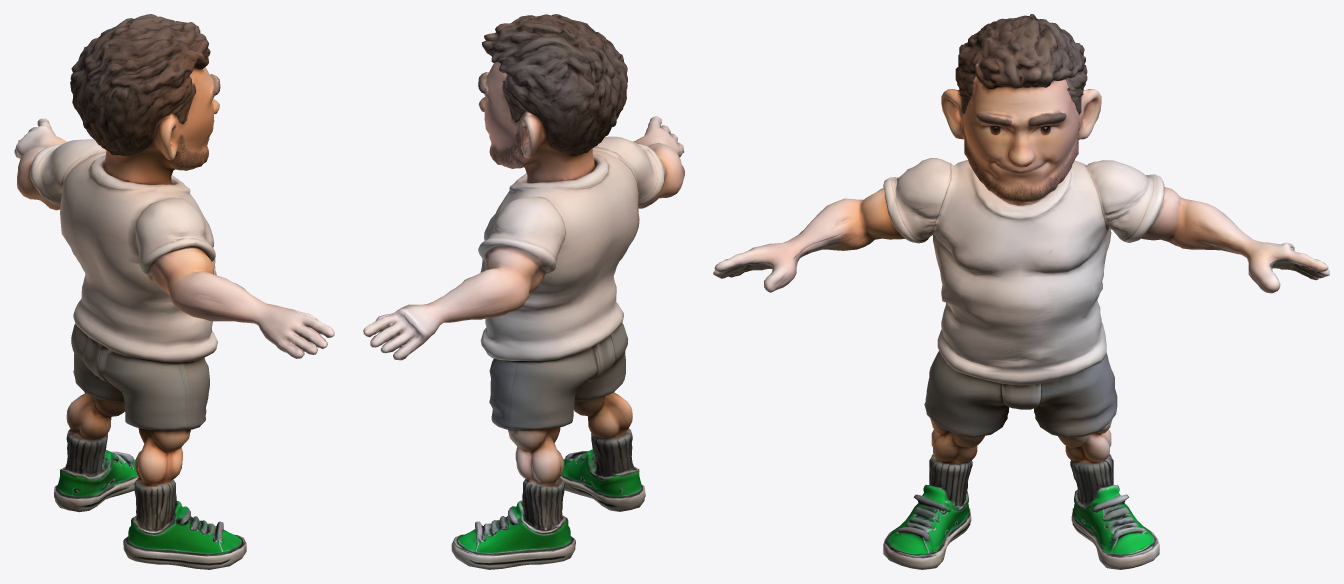
The picture shows the model from 3 angles, left to right: view 1: azimuth 30°, elevation 25°; view 2: azimuth 150°, elevation 25°; view 3: azimuth 270°, elevation 25°; orthographic projection. The views are drawn at different scales.
Parts seen in each view (by area): view 1: tripo_node_6789f149; view 2: tripo_node_6789f149; view 3: tripo_node_6789f149.
Boxes of the visible parts, box(x1,y1,x2,y2) form: tripo_node_6789f149: box(14, 14, 334, 569); tripo_node_6789f149: box(363, 14, 684, 569); tripo_node_6789f149: box(713, 14, 1329, 569).
Bounding box in the file's own units: 0.2759 × 0.9452 × 1.
Materials: 1 (1 with a texture image).
